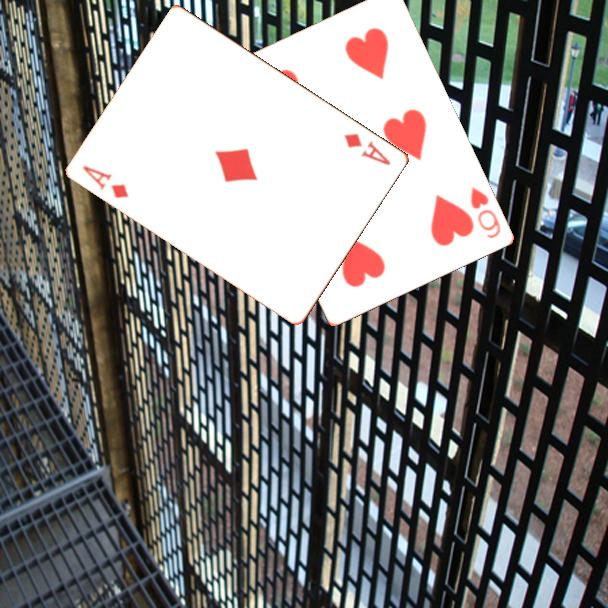d01: (341, 129, 394, 168), (79, 162, 132, 201)
h06: (466, 183, 503, 241)
